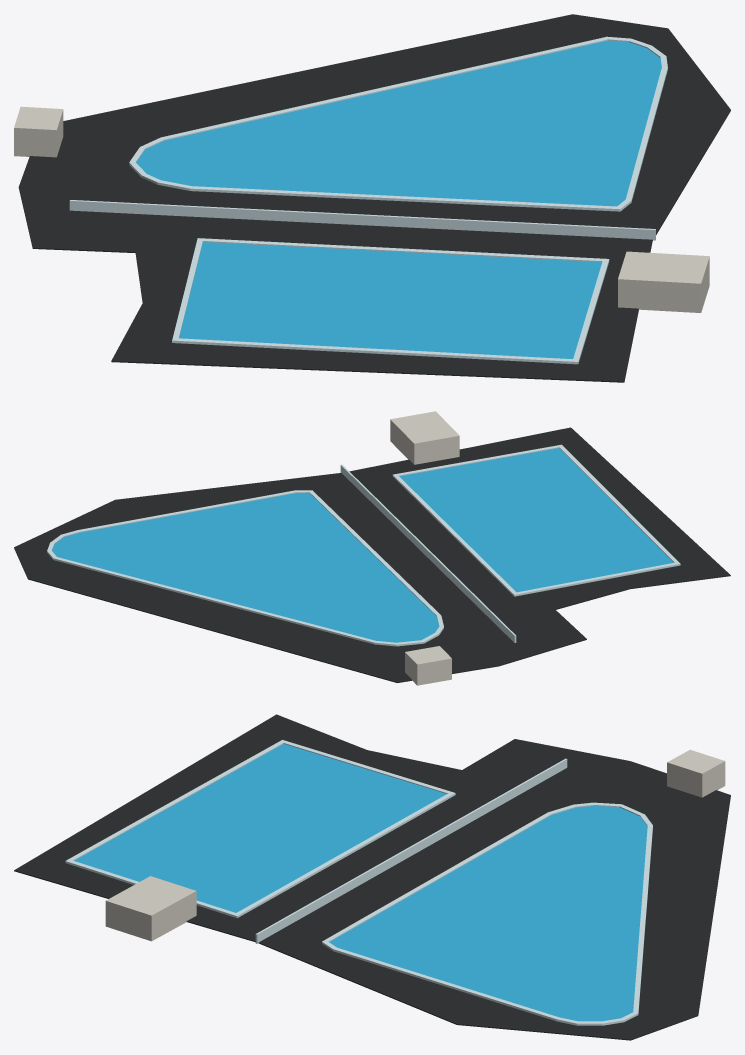
Rendered from brediusbad.glb.
3 views of the same model, one above another, from view 1: azimuth 30°, elevation 25°; view 2: azimuth 150°, elevation 25°; view 3: azimuth 270°, elevation 25° (orthographic). The views are drawn at different scales.
Visible parts, largest first — view 1: brediusbad; view 2: brediusbad; view 3: brediusbad.
Part boxes in pixels (<box>): brediusbad: <box>14,14,730,382</box>; brediusbad: <box>14,411,730,685</box>; brediusbad: <box>14,714,730,1040</box>.
Bounding box in the file's own units: 73 × 2.7 × 68.
